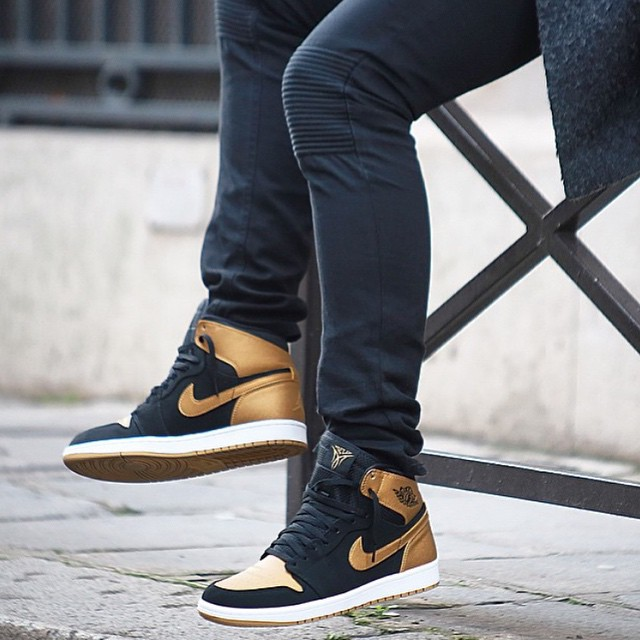sneaker: (184, 425, 462, 638), (46, 312, 325, 491)
